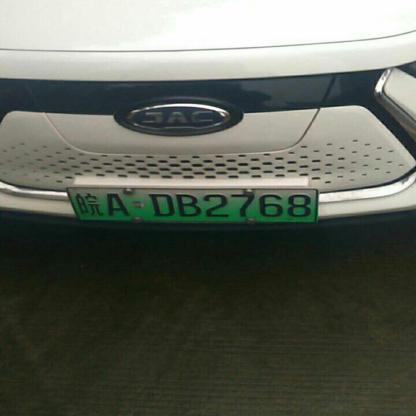lp: (68, 189, 316, 221)
